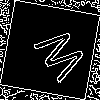W: (25, 25, 90, 89)
